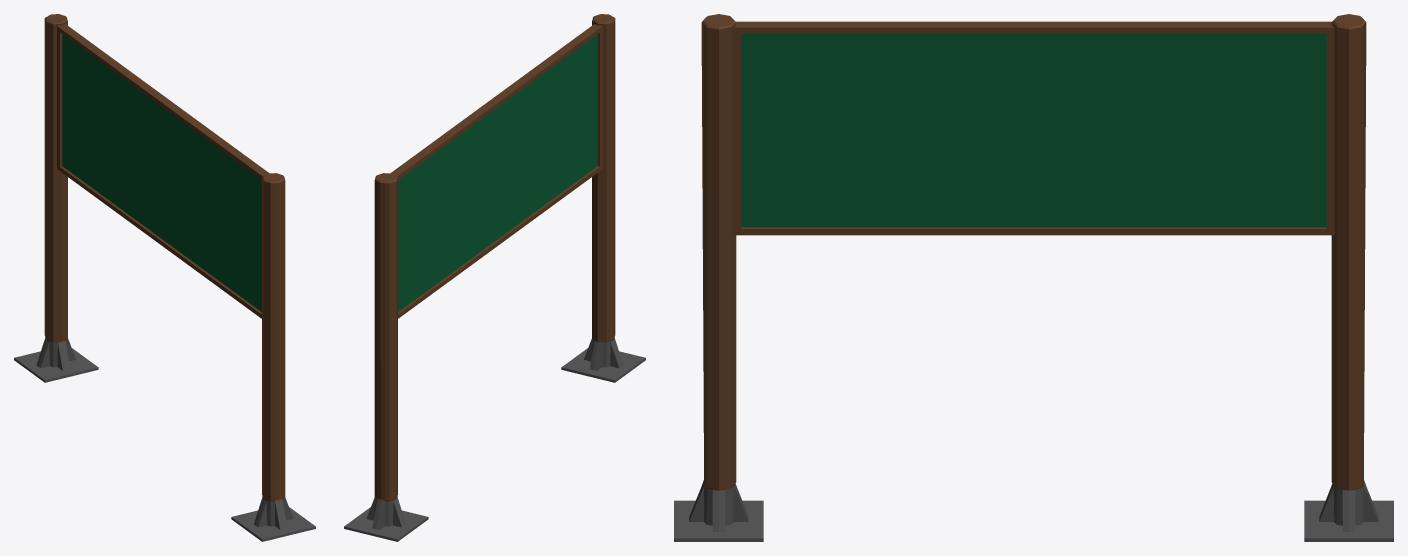
File: Kitbash.fbx
3 renders of one model, left to right at view 1: azimuth 30°, elevation 25°; view 2: azimuth 150°, elevation 25°; view 3: azimuth 270°, elevation 25°, orthographic. The views are drawn at different scales.
Parts seen in each view (by area): view 1: Cartel grande; view 2: Cartel grande; view 3: Cartel grande.
Part boxes in pixels (x1,y1,x2,y2): Cartel grande: (14,14,315,541); Cartel grande: (344,14,645,541); Cartel grande: (674,14,1393,541).
Bounding box in the file's own units: 42.63 × 264 × 343.
